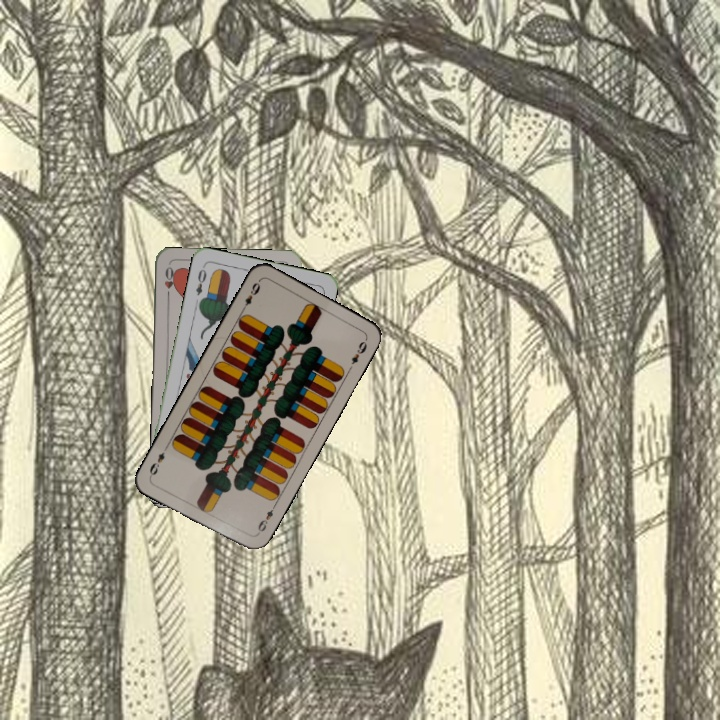E9: (252, 501, 278, 538), (238, 277, 263, 314)
EO: (191, 262, 209, 298)
HO: (160, 263, 177, 303)
